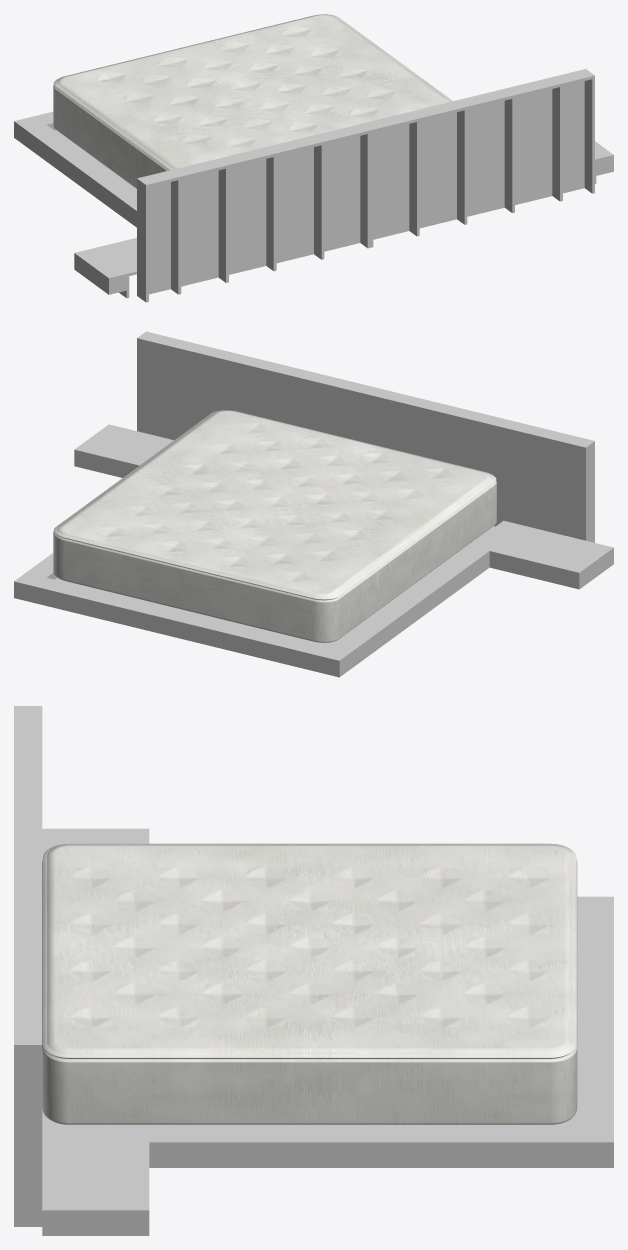
Rendered from bed_14.glb.
The picture shows the model from 3 angles, top to bottom: view 1: azimuth 30°, elevation 25°; view 2: azimuth 150°, elevation 25°; view 3: azimuth 270°, elevation 25°; orthographic projection. The views are drawn at different scales.
Visible parts, largest first — view 1: mesh29_mesh29-geometry, mesh70_mesh70-geometry, mesh62_mesh62-geometry, mesh68_mesh68-geometry, mesh64_mesh64-geometry, mesh42_mesh42-geometry, mesh15_mesh15-geometry, mesh54_mesh54-geometry, mesh66_mesh66-geometry_10, mesh66_mesh66-geometry, mesh66_mesh66-geometry_3, mesh66_mesh66-geometry_2 (+10 smaller); view 2: mesh29_mesh29-geometry, mesh70_mesh70-geometry, mesh62_mesh62-geometry, mesh40_mesh40-geometry, mesh48_mesh48-geometry, mesh42_mesh42-geometry, mesh15_mesh15-geometry, mesh3_mesh3-geometry, mesh54_mesh54-geometry, mesh68_mesh68-geometry, mesh64_mesh64-geometry, mesh21_mesh21-geometry (+4 smaller); view 3: mesh29_mesh29-geometry, mesh44_mesh44-geometry, mesh40_mesh40-geometry, mesh58_mesh58-geometry, mesh3_mesh3-geometry, mesh66_mesh66-geometry_8, mesh64_mesh64-geometry, mesh68_mesh68-geometry, mesh9_mesh9-geometry, mesh62_mesh62-geometry, mesh15_mesh15-geometry, mesh84_mesh84-geometry (+1 smaller).
Boxes of the visible parts, x1,y1,x2,y2 form: mesh29_mesh29-geometry: [53, 14, 452, 188]; mesh70_mesh70-geometry: [137, 123, 362, 296]; mesh62_mesh62-geometry: [362, 69, 586, 239]; mesh68_mesh68-geometry: [138, 125, 370, 187]; mesh64_mesh64-geometry: [363, 70, 594, 132]; mesh42_mesh42-geometry: [26, 125, 136, 213]; mesh15_mesh15-geometry: [74, 237, 136, 280]; mesh54_mesh54-geometry: [26, 133, 136, 227]; mesh66_mesh66-geometry_10: [138, 183, 148, 302]; mesh66_mesh66-geometry: [171, 179, 181, 294]; mesh66_mesh66-geometry_3: [314, 144, 324, 259]; mesh66_mesh66-geometry_2: [266, 156, 276, 271]; mesh29_mesh29-geometry: [53, 410, 496, 642]; mesh70_mesh70-geometry: [361, 392, 587, 540]; mesh62_mesh62-geometry: [137, 337, 362, 441]; mesh40_mesh40-geometry: [14, 573, 351, 663]; mesh48_mesh48-geometry: [14, 584, 340, 677]; mesh42_mesh42-geometry: [331, 520, 523, 654]; mesh15_mesh15-geometry: [489, 525, 613, 575]; mesh3_mesh3-geometry: [74, 424, 173, 467]; mesh54_mesh54-geometry: [351, 554, 489, 668]; mesh68_mesh68-geometry: [363, 386, 594, 448]; mesh64_mesh64-geometry: [139, 331, 370, 391]; mesh21_mesh21-geometry: [489, 554, 580, 589]; mesh29_mesh29-geometry: [42, 843, 577, 1124]; mesh44_mesh44-geometry: [42, 1127, 577, 1146]; mesh40_mesh40-geometry: [577, 896, 613, 1146]; mesh58_mesh58-geometry: [149, 1147, 577, 1167]; mesh3_mesh3-geometry: [42, 1142, 149, 1214]; mesh66_mesh66-geometry_8: [14, 1049, 37, 1226]; mesh64_mesh64-geometry: [14, 875, 37, 1049]; mesh68_mesh68-geometry: [14, 706, 37, 875]; mesh9_mesh9-geometry: [42, 1214, 144, 1235]; mesh62_mesh62-geometry: [37, 875, 42, 1226]; mesh15_mesh15-geometry: [42, 828, 149, 861]; mesh84_mesh84-geometry: [42, 1109, 577, 1126].
Size of the model in its own units: 0.8189 by 0.182 by 0.5444.
2 materials, 1 textured.
